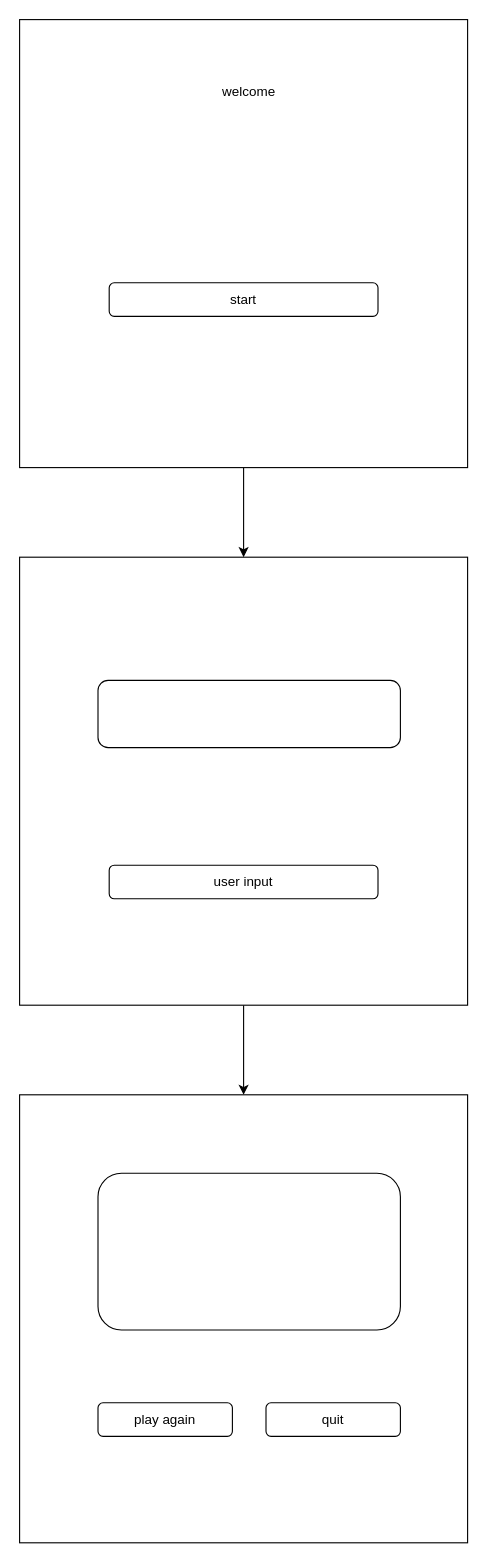
Some shapes in this 487 by 1562 pixel diagram are drawn without their labels. The shapes that lost their labels are listed below. From the top down, each one's centre as x and y in pixels, then its label:
point (248, 713): word to type
point (248, 1251): results
